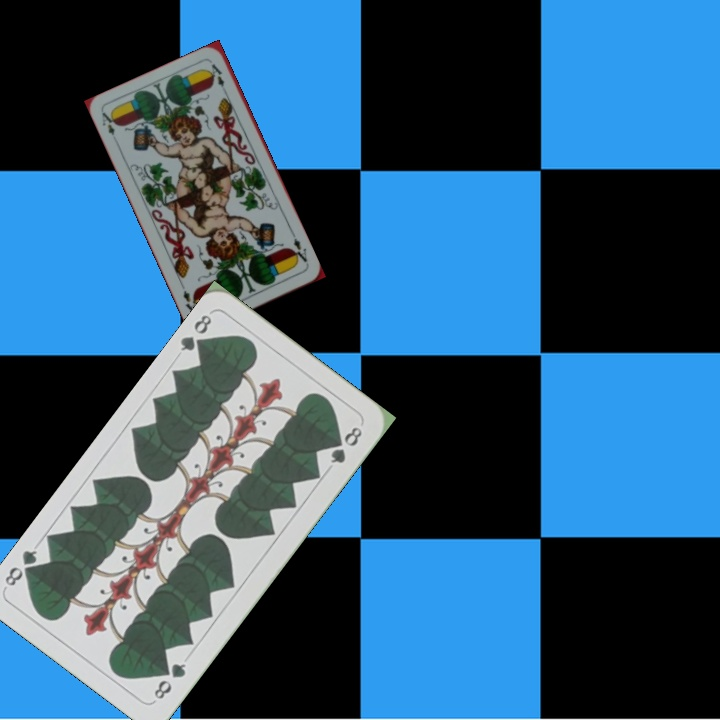EA: (287, 229, 310, 266), (98, 108, 120, 138)
G8: (176, 310, 215, 356), (149, 659, 189, 702)
